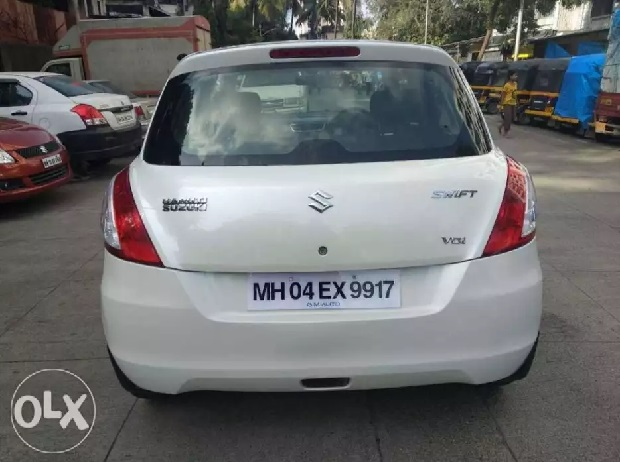licenseplate: (247, 271, 405, 309)
